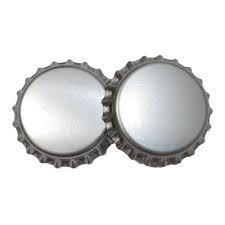Metal: (100, 54, 218, 185), (6, 57, 120, 170)
